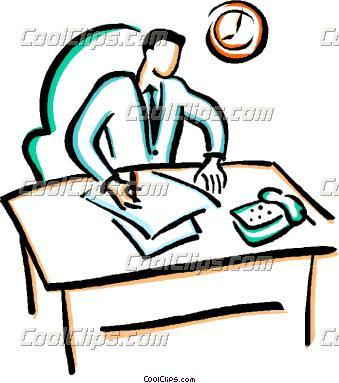person: (57, 21, 228, 208)
